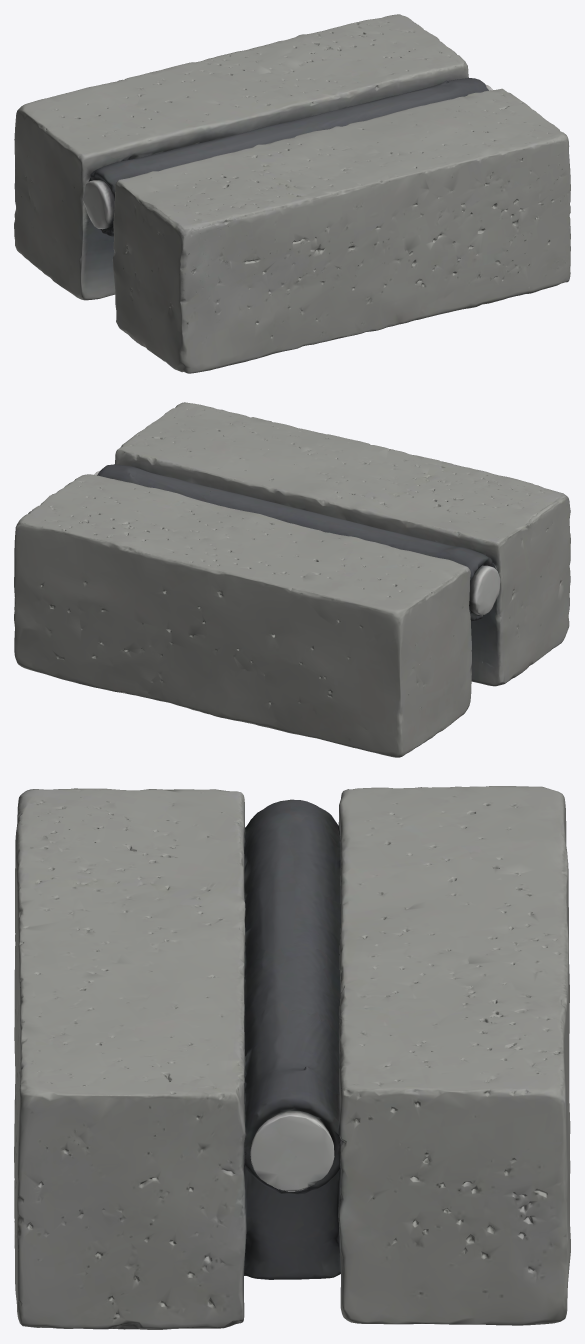
File: sealant-joint.glb
3 renders of one model, top to bottom at view 1: azimuth 30°, elevation 25°; view 2: azimuth 150°, elevation 25°; view 3: azimuth 270°, elevation 25°, orthographic. The views are drawn at different scales.
Parts seen in each view (by area): view 1: tripo_node_c1c7495a-23ba-4dea-bee1-3b66135969ec; view 2: tripo_node_c1c7495a-23ba-4dea-bee1-3b66135969ec; view 3: tripo_node_c1c7495a-23ba-4dea-bee1-3b66135969ec.
Boxes of the visible parts, box(x1,y1,x2,y2) form: tripo_node_c1c7495a-23ba-4dea-bee1-3b66135969ec: box(14, 14, 570, 373); tripo_node_c1c7495a-23ba-4dea-bee1-3b66135969ec: box(14, 402, 570, 757); tripo_node_c1c7495a-23ba-4dea-bee1-3b66135969ec: box(14, 786, 570, 1329).
Bounding box in the file's own units: 1 × 0.3672 × 0.757.
Materials: 1 (1 with a texture image).
